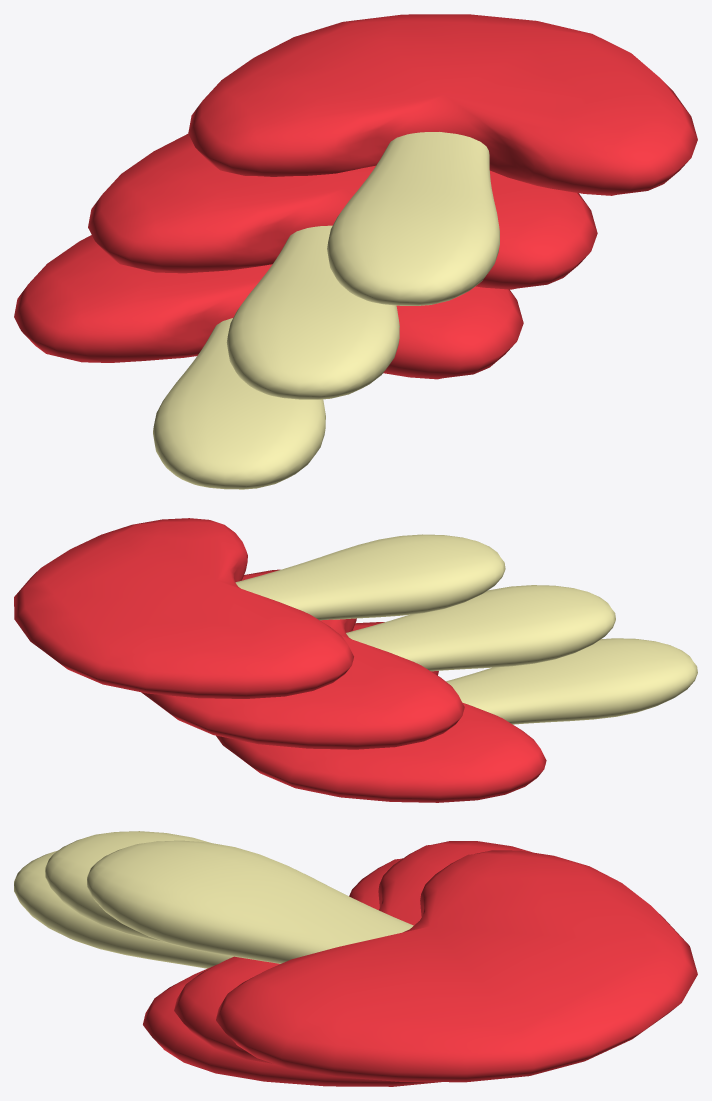
The model's file is HongoSlice.fbx.
The picture shows the model from 3 angles, top to bottom: view 1: azimuth 30°, elevation 25°; view 2: azimuth 150°, elevation 25°; view 3: azimuth 270°, elevation 25°; orthographic projection. The views are drawn at different scales.
Parts seen in each view (by area): view 1: Cube.006, Cylinder; view 2: Cube.006, Cylinder; view 3: Cube.006, Cylinder.
Part boxes in pixels (bbox=[...]): Cube.006: bbox=[14, 14, 697, 379]; Cylinder: bbox=[153, 132, 499, 489]; Cube.006: bbox=[14, 518, 546, 802]; Cylinder: bbox=[235, 534, 697, 724]; Cube.006: bbox=[143, 841, 697, 1086]; Cylinder: bbox=[14, 831, 413, 968].
Size of the model in its own units: 142 by 36.34 by 124.
